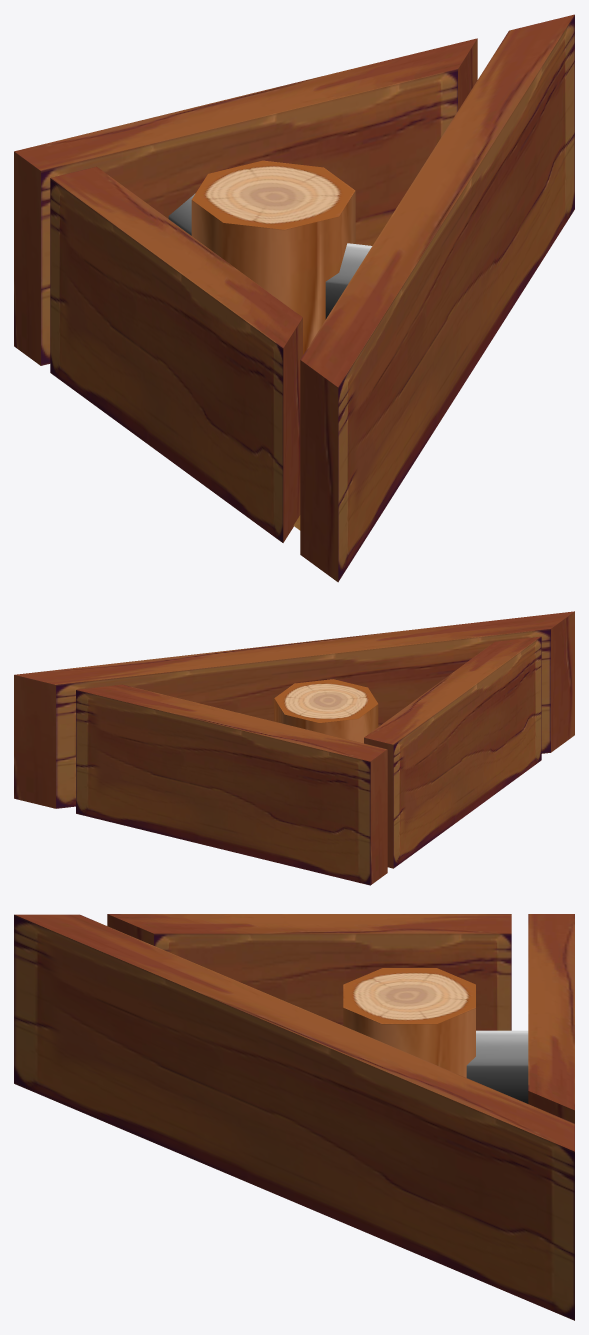
Rendered from triangle_wood_02.fbx.
The picture shows the model from 3 angles, top to bottom: view 1: azimuth 30°, elevation 25°; view 2: azimuth 150°, elevation 25°; view 3: azimuth 270°, elevation 25°; orthographic projection. The views are drawn at different scales.
Parts seen in each view (by area): view 1: triangle_wood_02; view 2: triangle_wood_02; view 3: triangle_wood_02.
Part boxes in pixels (x1,y1,x2,y2): triangle_wood_02: (14,14,574,582); triangle_wood_02: (14,611,574,885); triangle_wood_02: (14,914,574,1320).
Bounding box in the file's own units: 120 × 40 × 120.
